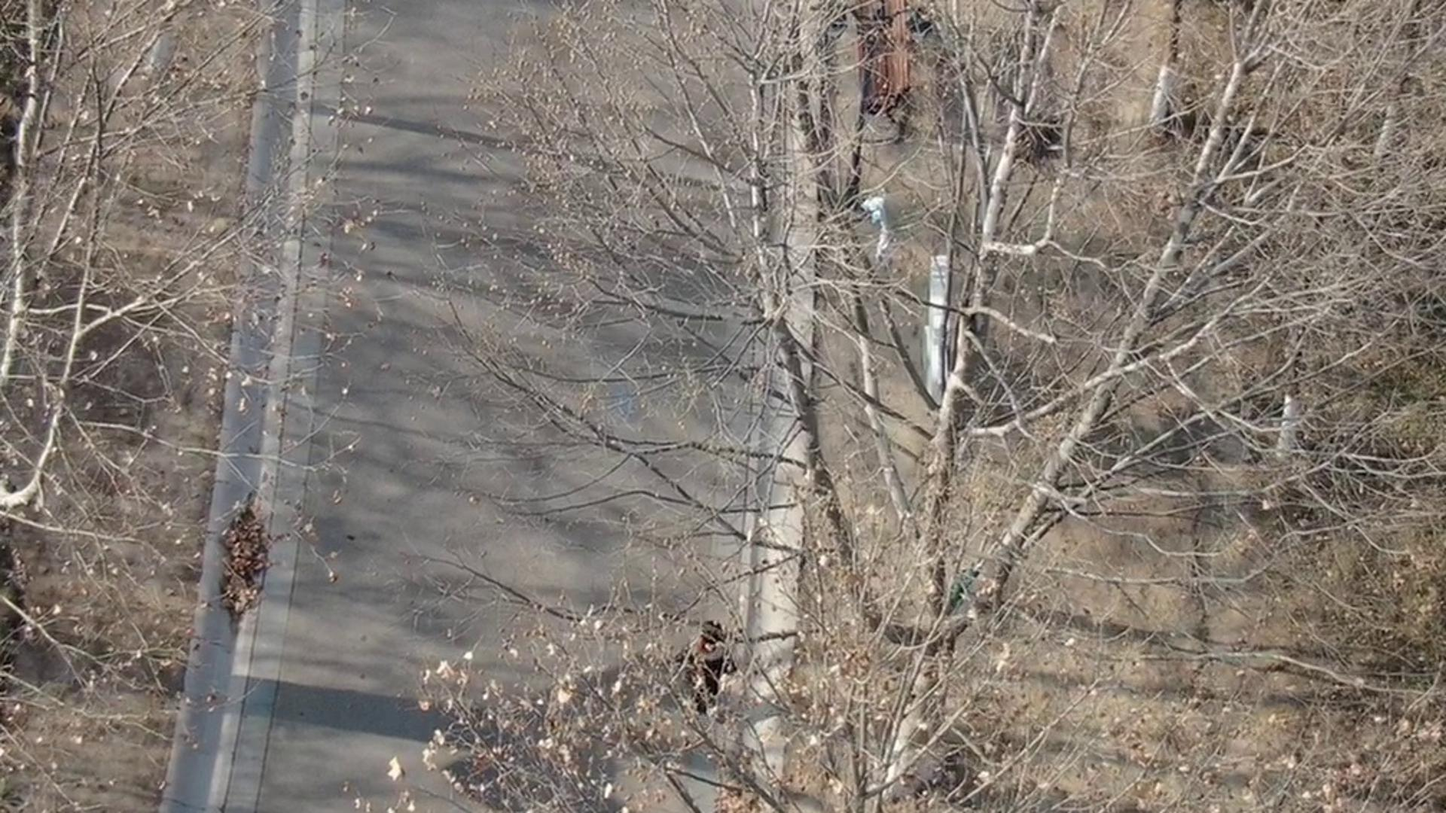human: (681, 597, 746, 712)
